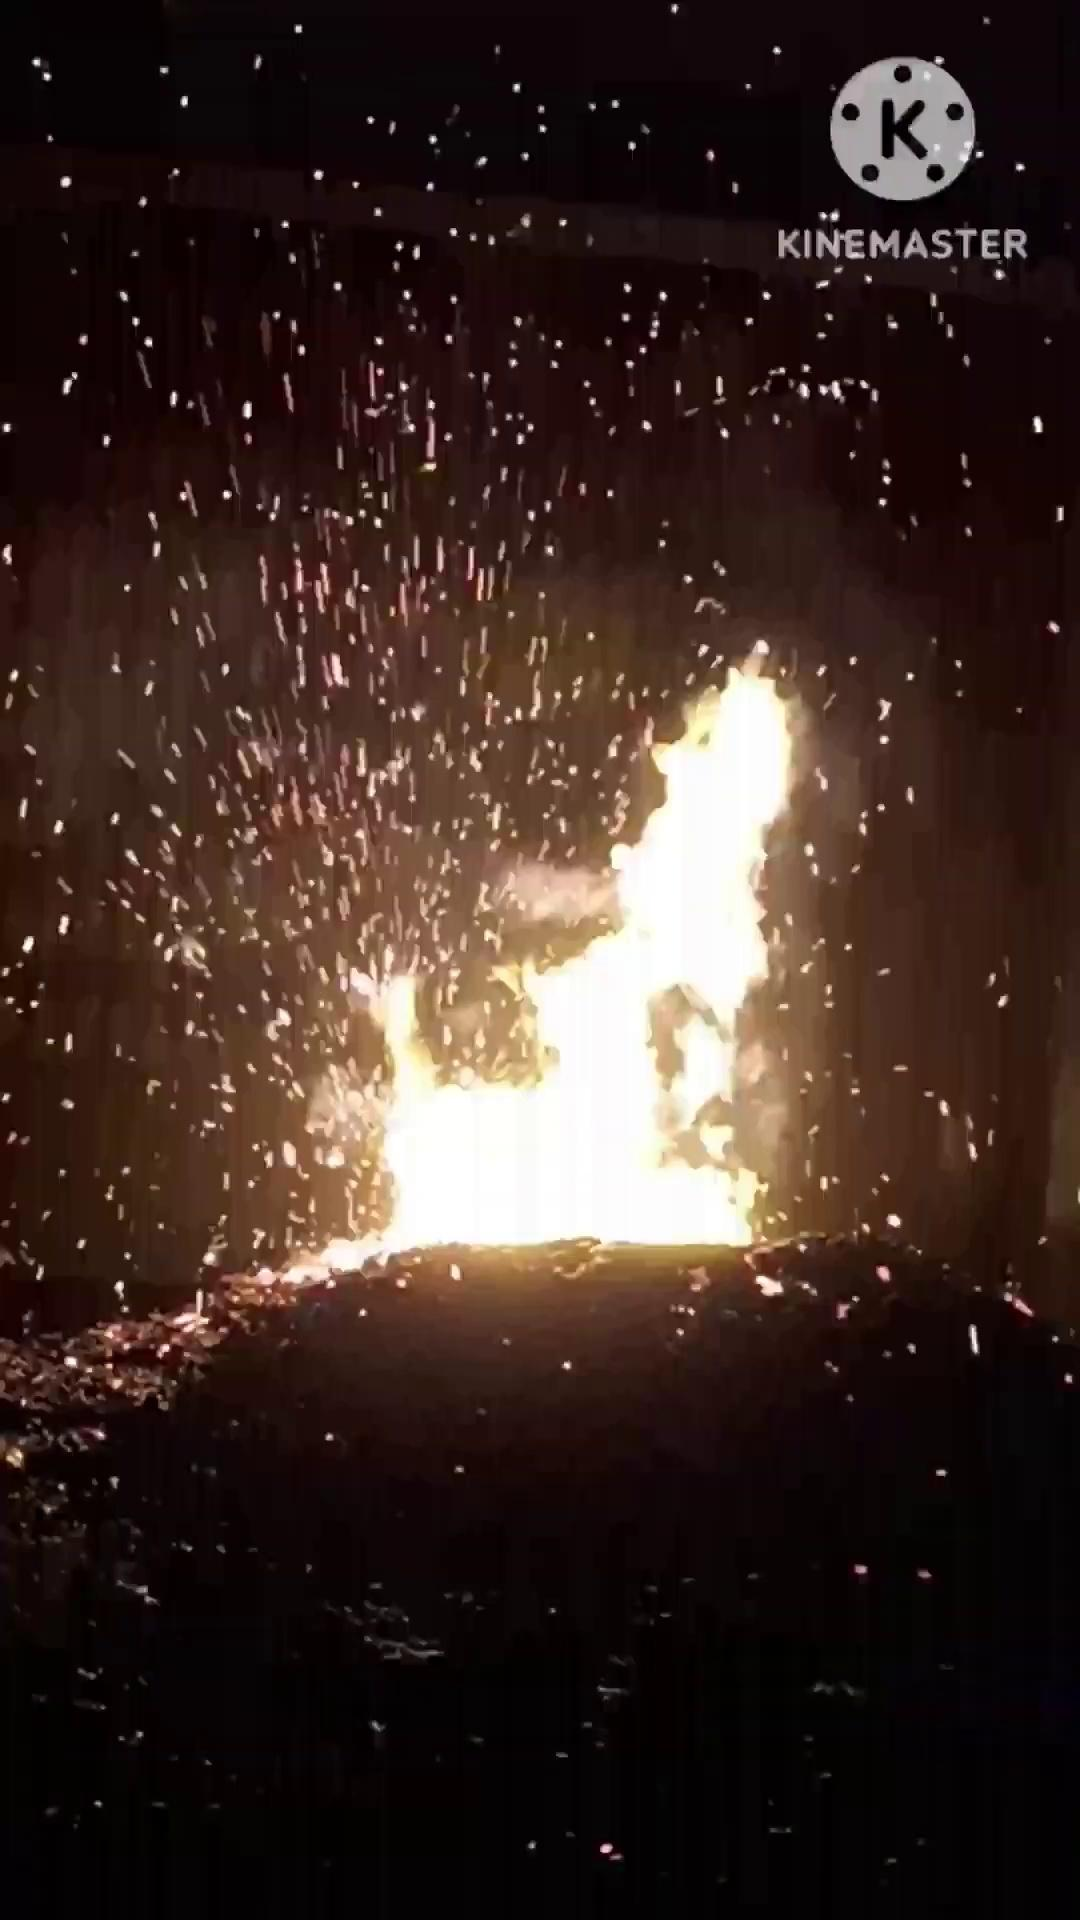fire: (102, 318, 972, 1601)
